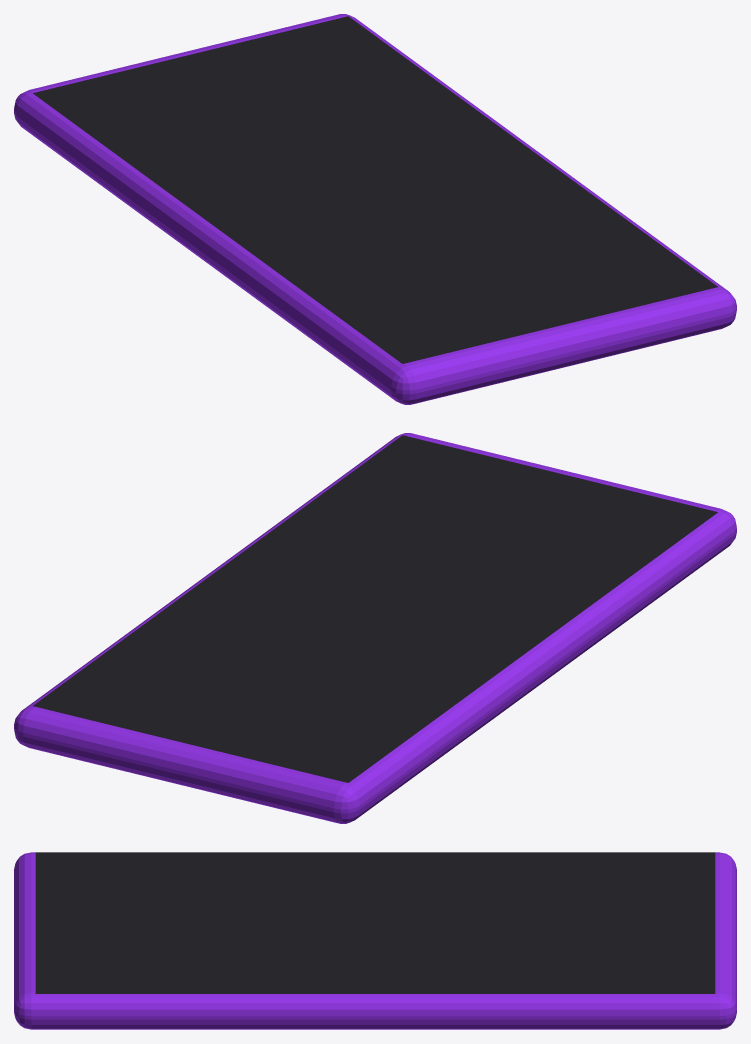
Rendered from motorola-razr-model-180-flagship-2026.glb.
3 views of the same model, one above another, from view 1: azimuth 30°, elevation 25°; view 2: azimuth 150°, elevation 25°; view 3: azimuth 270°, elevation 25° (orthographic). The views are drawn at different scales.
Visible parts, largest first — view 1: Phone_Screen, Phone_Body; view 2: Phone_Screen, Phone_Body; view 3: Phone_Screen, Phone_Body.
Boxes of the visible parts, bbox=[...] form: Phone_Screen: bbox=[33, 16, 717, 363]; Phone_Body: bbox=[14, 14, 736, 404]; Phone_Screen: bbox=[33, 435, 717, 782]; Phone_Body: bbox=[14, 433, 736, 823]; Phone_Screen: bbox=[35, 852, 715, 993]; Phone_Body: bbox=[14, 852, 736, 1029].
Bounding box in the file's own units: 0.0715 × 0.0076 × 0.142.
